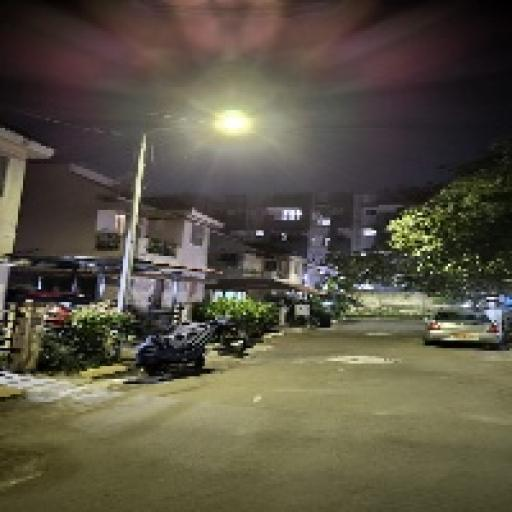Working: (205, 107, 264, 144)
